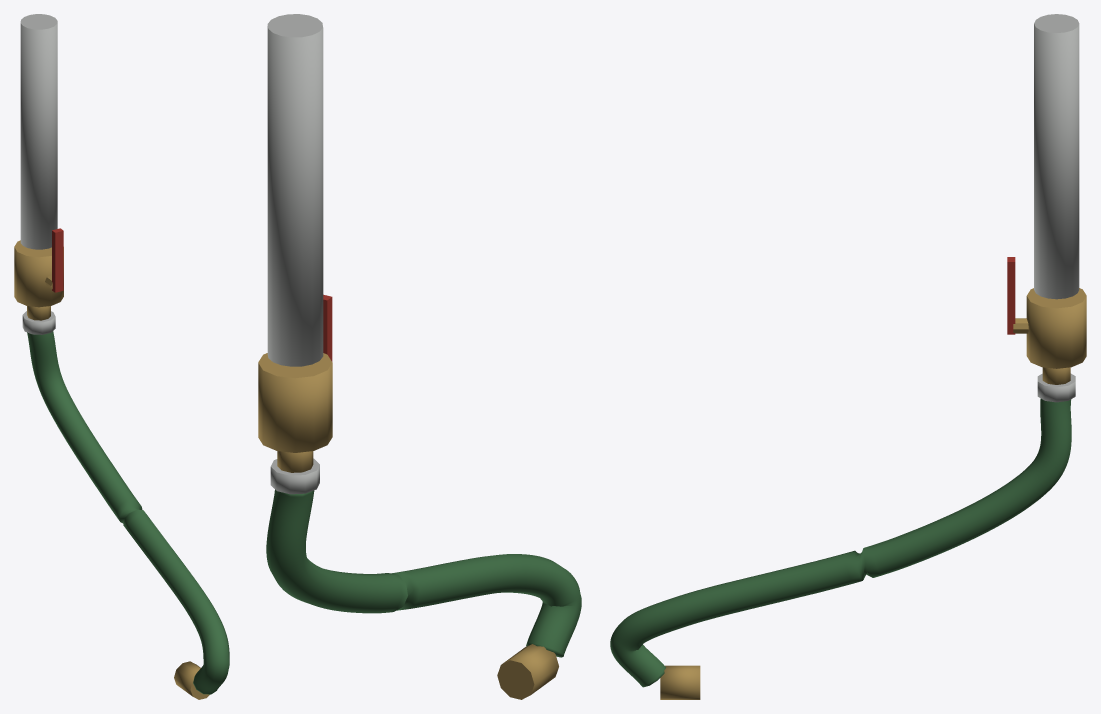
Rendered from barrel_fill_low.obj.
The picture shows the model from 3 angles, left to right: view 1: azimuth 30°, elevation 25°; view 2: azimuth 150°, elevation 25°; view 3: azimuth 270°, elevation 25°; orthographic projection. The views are drawn at different scales.
Parts seen in each view (by area): view 1: hose, pipe4, valve_body, valve_lever, nozzle, hose_collar; view 2: pipe4, hose, valve_body, nozzle, hose_collar, hose_barb, valve_lever; view 3: hose, pipe4, valve_body, nozzle, hose_collar.
Part boxes in pixels (x1,y1,x2,y2): hose: (27,331,229,694); pipe4: (20,14,57,249); valve_body: (14,240,63,307); valve_lever: (52,228,63,292); nozzle: (174,661,209,699); hose_collar: (22,311,55,334); pipe4: (267,14,323,366); hose: (266,489,581,657); valve_body: (258,353,332,452); nozzle: (497,644,558,699); hose_collar: (270,458,319,494); hose_barb: (277,451,313,472); valve_lever: (323,294,332,361); hose: (610,398,1071,687); pipe4: (1034,14,1079,299); valve_body: (1026,288,1086,368); nozzle: (660,665,700,699); hose_collar: (1037,373,1075,402).
Bounding box in the file's own units: 0.099 × 1.11 × 0.7142.
Materials: 4 (4 with a texture image).
